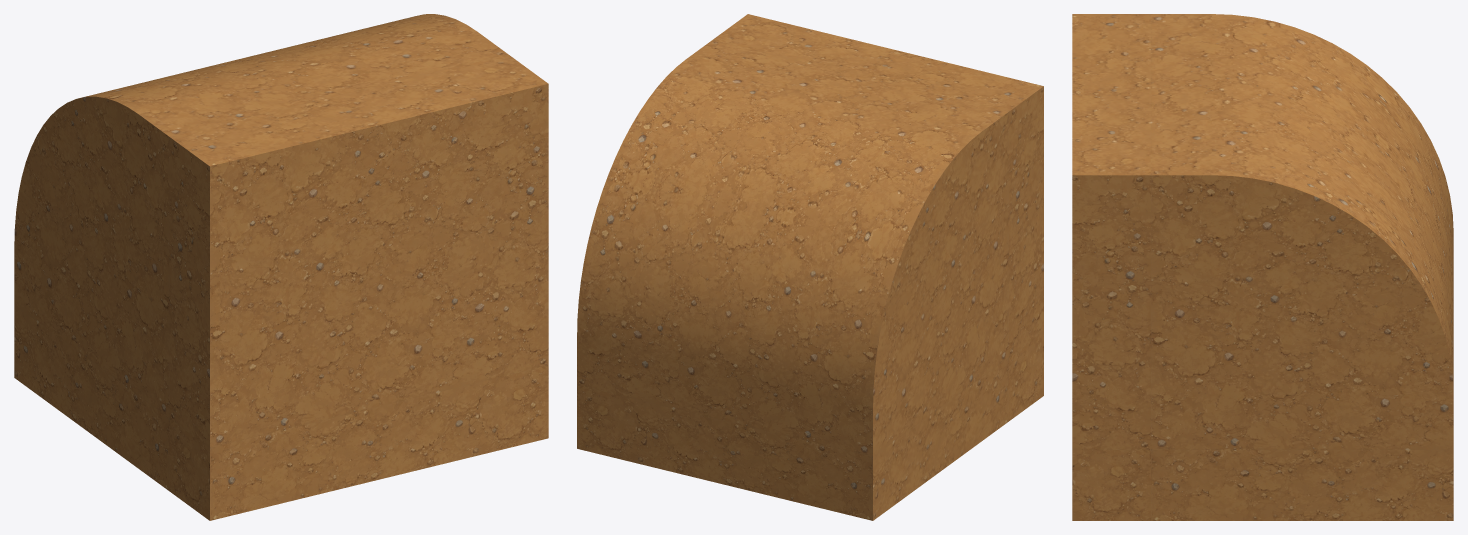
3 views of the same model, side by side, from view 1: azimuth 30°, elevation 25°; view 2: azimuth 150°, elevation 25°; view 3: azimuth 270°, elevation 25° (orthographic). The views are drawn at different scales.
Parts seen in each view (by area): view 1: Cube.019; view 2: Cube.019; view 3: Cube.019.
Part boxes in pixels (x1,y1,x2,y2): Cube.019: (14,14,548,520); Cube.019: (577,14,1043,520); Cube.019: (1072,14,1453,520).
Bounding box in the file's own units: 100 × 100 × 100.
Materials: 1 (1 with a texture image).
